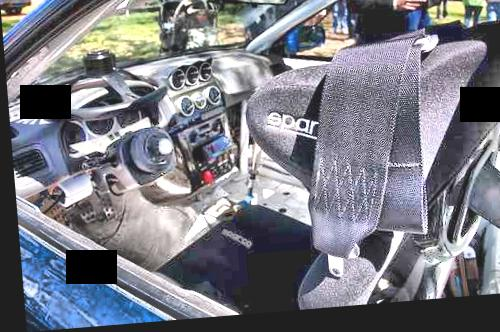seatbelt: (292, 39, 438, 270)
